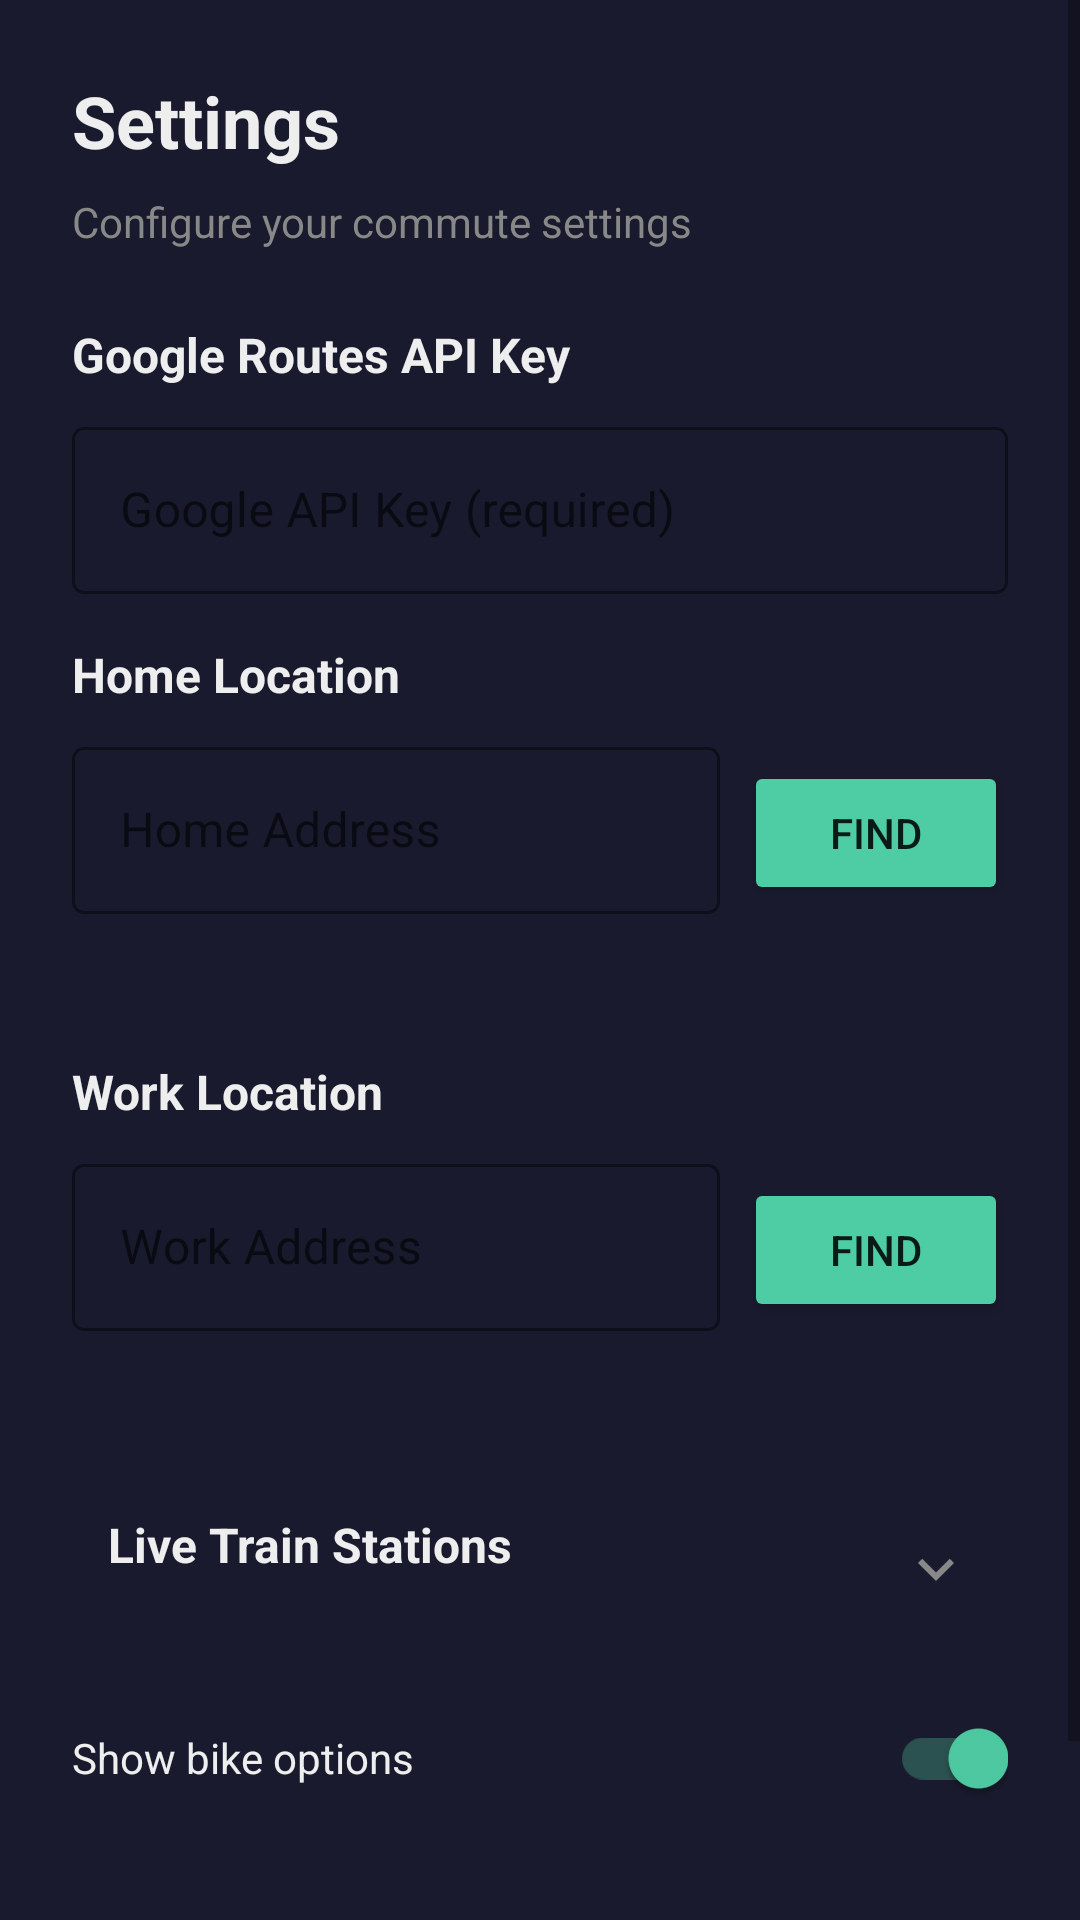

Screen size 1080px×1920px. Icon name, then its box in pixels as (x1, y1, x2, y2):
expand: (918, 1559, 954, 1581)
